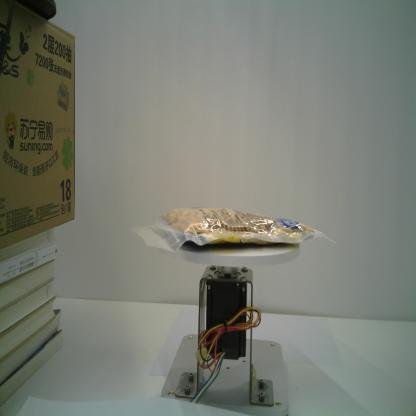Dried Fruit: (130, 206, 339, 252)
